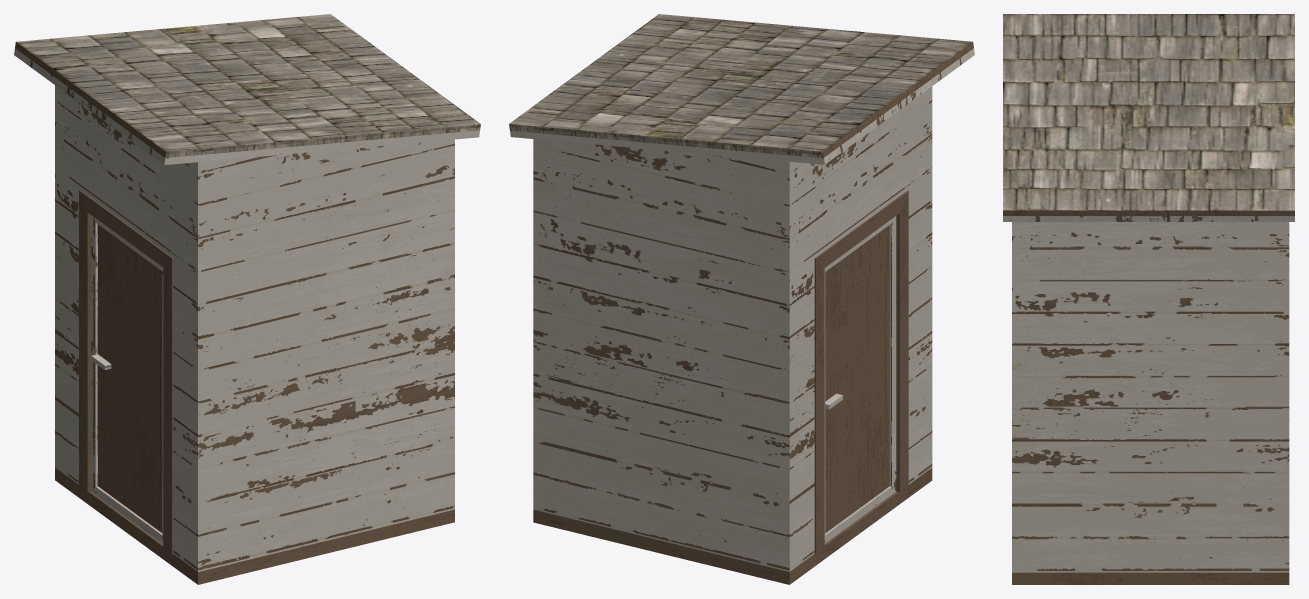
The model's file is FarmTualete.fbx.
3 renders of one model, left to right at view 1: azimuth 30°, elevation 25°; view 2: azimuth 150°, elevation 25°; view 3: azimuth 270°, elevation 25°, orthographic. The views are drawn at different scales.
Parts seen in each view (by area): view 1: Tuallete, Roof, FarmDoor1.001, Floor; view 2: Tuallete, Roof, FarmDoor1.001, Floor; view 3: Tuallete, Roof, Floor.
Boxes of the visible parts, x1,y1,x2,y2 form: Tuallete: (55, 85, 454, 571); Roof: (14, 14, 480, 165); FarmDoor1.001: (91, 215, 163, 543); Floor: (55, 467, 454, 584); Tuallete: (533, 86, 932, 571); Roof: (509, 14, 974, 164); FarmDoor1.001: (824, 216, 896, 543); Floor: (533, 468, 932, 584); Tuallete: (1012, 222, 1289, 572); Roof: (1003, 14, 1294, 221); Floor: (1012, 572, 1289, 584).
Bounding box in the file's own units: 256 × 344 × 210.
